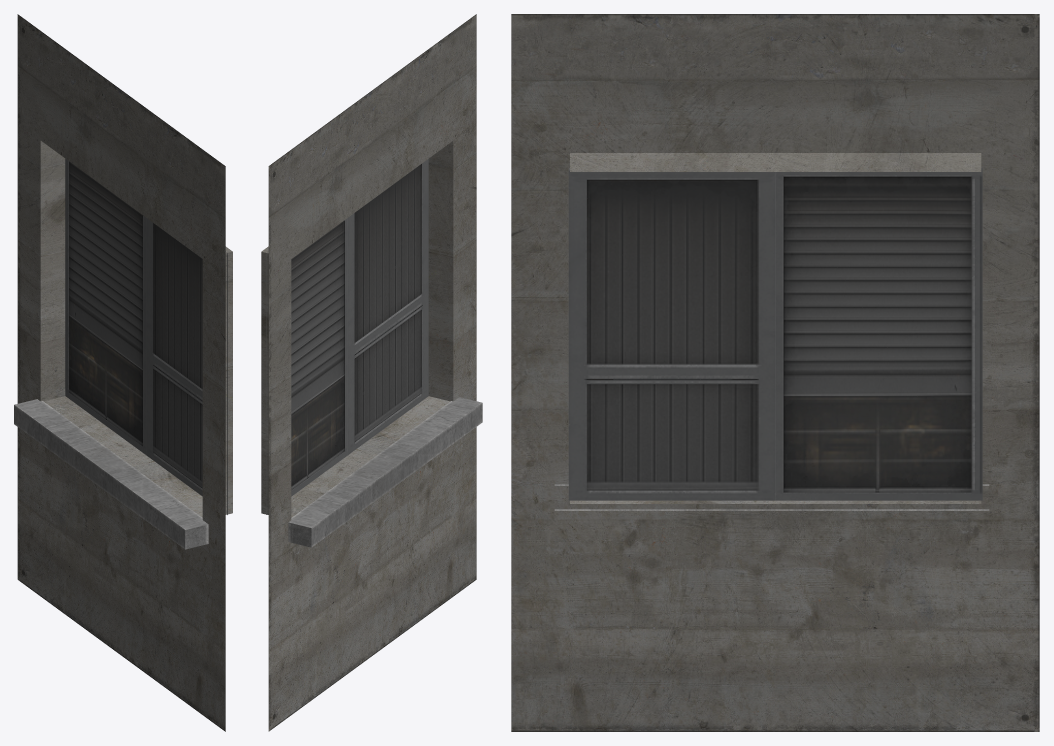
Rendered from CP_Windows_B_2x3m_01.fbx.
3 renders of one model, left to right at view 1: azimuth 30°, elevation 25°; view 2: azimuth 150°, elevation 25°; view 3: azimuth 270°, elevation 25°, orthographic. The views are drawn at different scales.
Visible parts, largest first — view 1: CP_Windows_B_2x3m_01; view 2: CP_Windows_B_2x3m_01; view 3: CP_Windows_B_2x3m_01.
Part boxes in pixels (bbox=[...]): CP_Windows_B_2x3m_01: bbox=[14, 14, 232, 731]; CP_Windows_B_2x3m_01: bbox=[261, 14, 482, 731]; CP_Windows_B_2x3m_01: bbox=[511, 14, 1039, 731].
Bounding box in the file's own units: 29.7 × 300 × 200.
